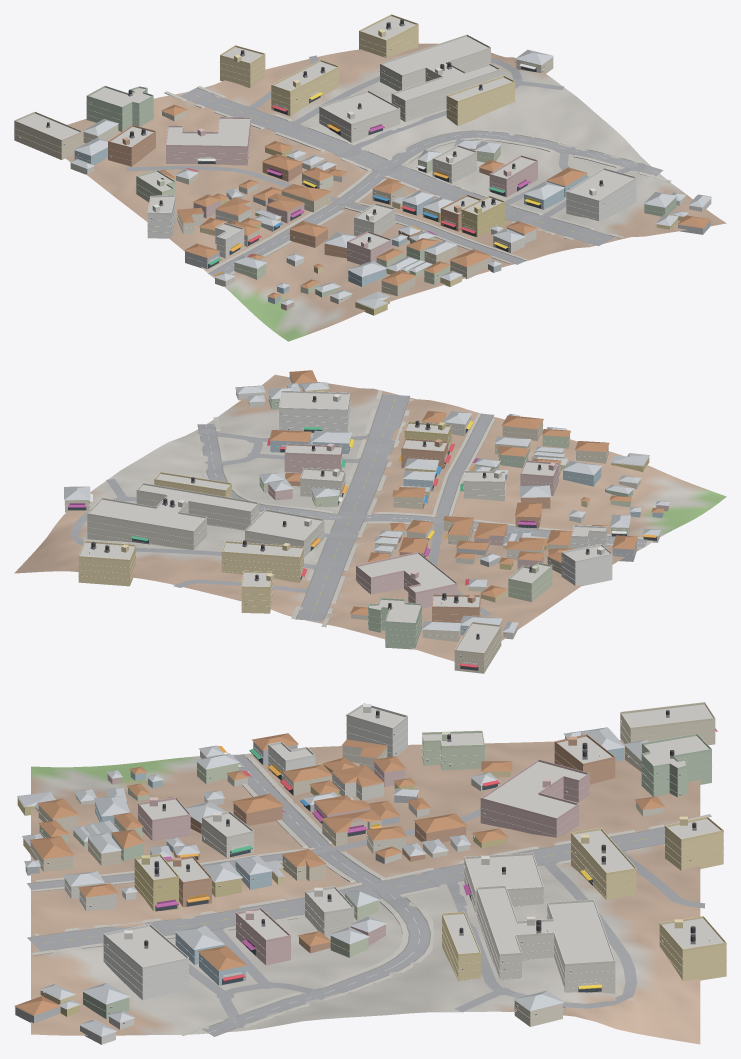
3 views of the same model, one above another, from view 1: azimuth 30°, elevation 25°; view 2: azimuth 150°, elevation 25°; view 3: azimuth 270°, elevation 25° (orthographic). The views are drawn at different scales.
Parts seen in each view (by area): view 1: Buildings-col, Terrain-col, Details, Roads-col, Sidewalks-col; view 2: Buildings-col, Terrain-col, Details, Roads-col, Sidewalks-col; view 3: Buildings-col, Terrain-col, Roads-col, Details, Sidewalks-col.
Part boxes in pixels (box(x1,y1,x2,y2)): Buildings-col: box(14, 16, 712, 315); Terrain-col: box(65, 43, 726, 341); Details: box(14, 14, 675, 299); Roads-col: box(126, 55, 663, 275); Sidewalks-col: box(164, 86, 671, 274); Buildings-col: box(64, 370, 669, 673); Terrain-col: box(14, 374, 726, 661); Details: box(64, 390, 656, 670); Roads-col: box(70, 394, 647, 621); Sidewalks-col: box(195, 390, 646, 627); Buildings-col: box(14, 704, 726, 1044); Terrain-col: box(31, 740, 700, 1044); Roads-col: box(27, 754, 705, 1036); Details: box(30, 702, 726, 1023); Sidewalks-col: box(32, 757, 711, 1035).
Size of the model in its own units: 277 by 32.32 by 273.
